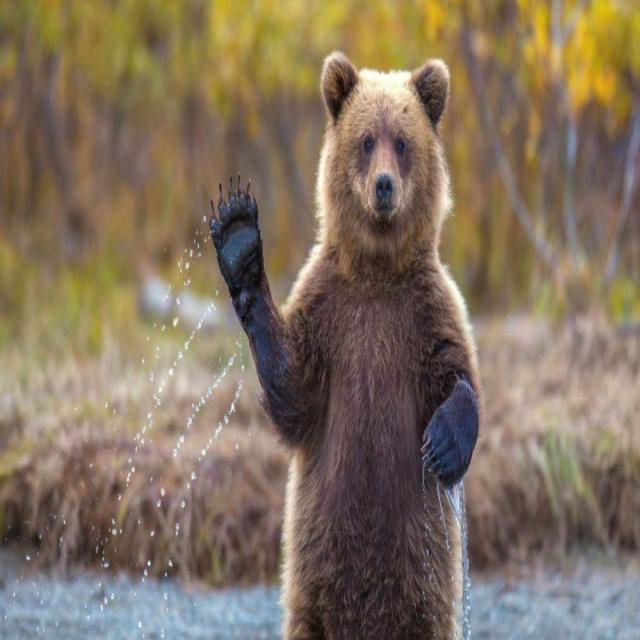Bear: (208, 51, 482, 640)
